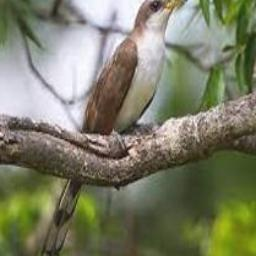Cuckoo: (36, 0, 189, 256)
